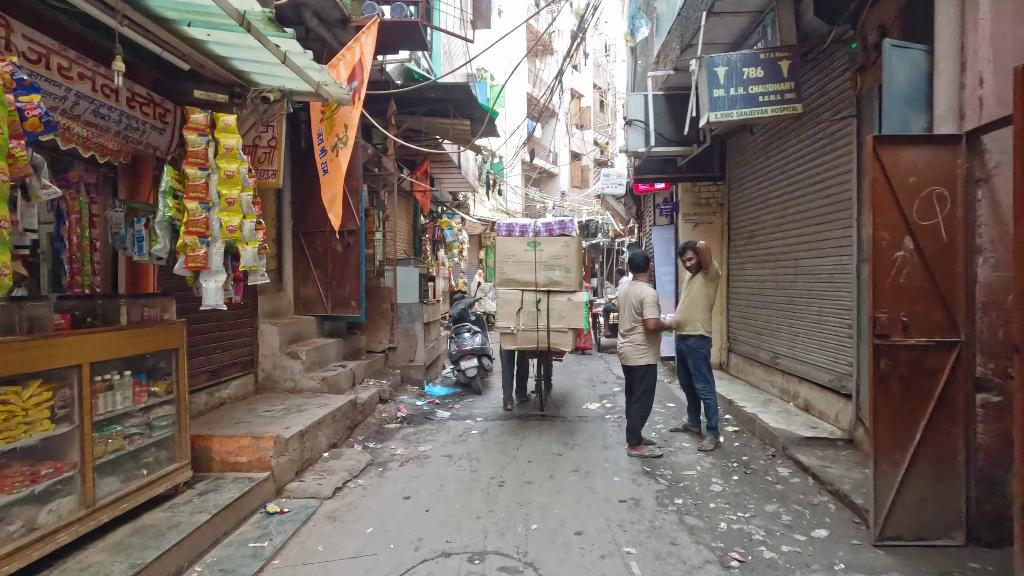garbage: (198, 273, 228, 312), (182, 131, 213, 167), (185, 200, 212, 237), (424, 378, 465, 398), (214, 131, 241, 161), (220, 210, 244, 240), (164, 196, 186, 225), (236, 189, 257, 218), (263, 503, 292, 514), (809, 528, 831, 539), (727, 551, 747, 563), (432, 408, 453, 418), (582, 402, 602, 411), (725, 425, 741, 433)
